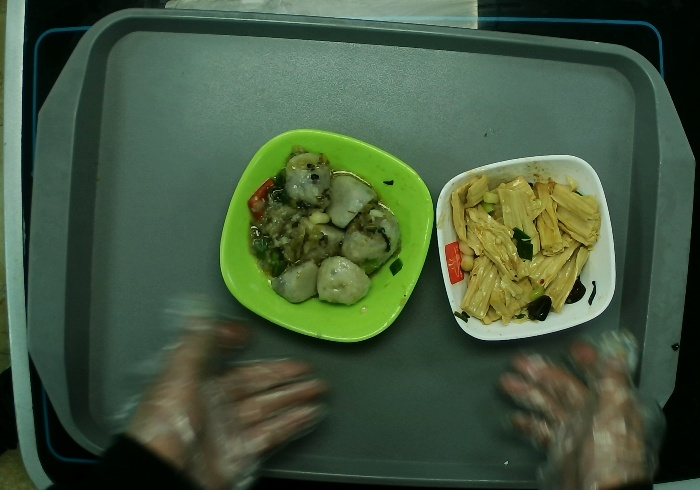SHKJ-Bai_Se_Xiao_Fang_Die: (434, 153, 616, 344)
SHKJ-Lv_Se_Cai_Die: (221, 129, 436, 343)
